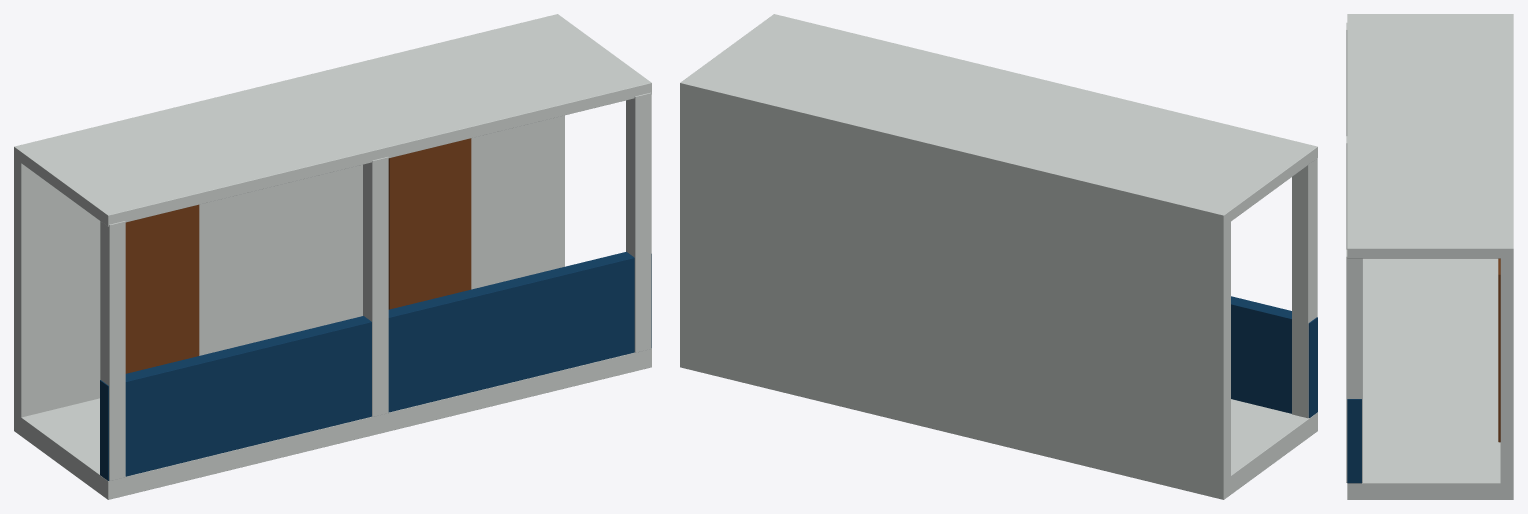
The picture shows the model from 3 angles, left to right: view 1: azimuth 30°, elevation 25°; view 2: azimuth 150°, elevation 25°; view 3: azimuth 270°, elevation 25°; orthographic projection. The views are drawn at different scales.
Parts seen in each view (by area): view 1: WALL, CEILING, PARAPET, FLOOR, DOOR_Panel.001, DOOR_Panel, COLUMN, COLUMN.001, COLUMN.002; view 2: WALL, CEILING, FLOOR, PARAPET, COLUMN.001; view 3: CEILING, FLOOR, WALL, COLUMN, PARAPET, DOOR_Panel.001, COLUMN.002, COLUMN.001.
Part boxes in pixels (<box>): WALL: <box>14,115,564,424</box>; CEILING: <box>14,14,651,226</box>; PARAPET: <box>100,251,651,480</box>; FLOOR: <box>14,348,651,499</box>; DOOR_Panel.001: <box>388,138,471,309</box>; DOOR_Panel: <box>125,204,199,373</box>; COLUMN: <box>626,92,651,352</box>; COLUMN.001: <box>100,221,125,480</box>; COLUMN.002: <box>363,157,388,416</box>; WALL: <box>680,92,1230,490</box>; CEILING: <box>680,14,1317,226</box>; FLOOR: <box>680,349,1317,499</box>; PARAPET: <box>1231,296,1317,417</box>; COLUMN.001: <box>1292,158,1317,418</box>; CEILING: <box>1347,14,1513,258</box>; FLOOR: <box>1347,258,1513,499</box>; WALL: <box>1500,257,1513,490</box>; COLUMN: <box>1346,249,1362,482</box>; PARAPET: <box>1347,399,1361,483</box>; DOOR_Panel.001: <box>1498,258,1500,442</box>; COLUMN.002: <box>1346,136,1347,249</box>; COLUMN.001: <box>1346,22,1347,135</box>.
Size of the model in its own units: 6 by 3 by 1.81.
